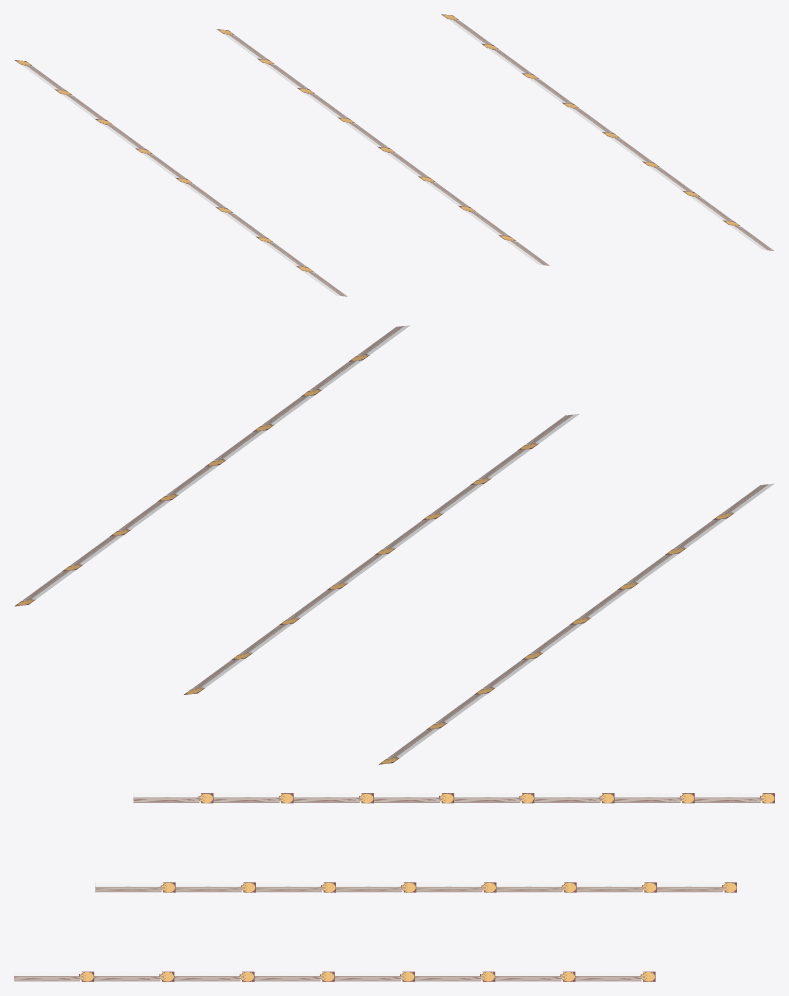
File: Mesh_Home_Port_Buoy.fbx
3 views of the same model, one above another, from view 1: azimuth 30°, elevation 25°; view 2: azimuth 150°, elevation 25°; view 3: azimuth 270°, elevation 25° (orthographic). The views are drawn at different scales.
Parts seen in each view (by area): view 1: Mesh_Home_Port_Buoy; view 2: Mesh_Home_Port_Buoy; view 3: Mesh_Home_Port_Buoy.
Part boxes in pixels (<box>): Mesh_Home_Port_Buoy: <box>14,14,774,296</box>; Mesh_Home_Port_Buoy: <box>14,325,774,764</box>; Mesh_Home_Port_Buoy: <box>14,793,774,981</box>.
Size of the model in its own units: 454 by 5 by 791.
Materials: 1 (1 with a texture image).
